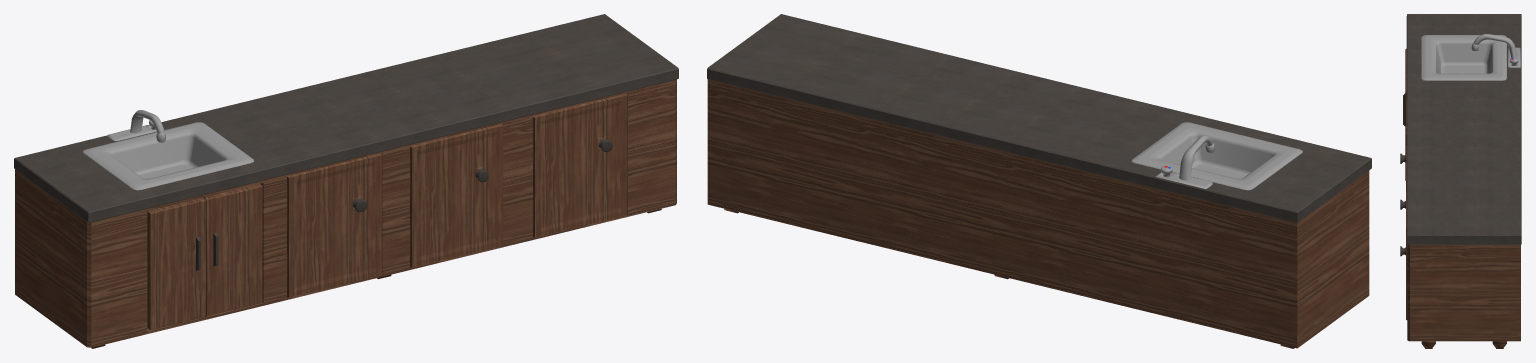
File: counter_top_sink.glb
3 renders of one model, left to right at view 1: azimuth 30°, elevation 25°; view 2: azimuth 150°, elevation 25°; view 3: azimuth 270°, elevation 25°, orthographic. The views are drawn at different scales.
Parts seen in each view (by area): view 1: CounterTopSink; view 2: CounterTopSink; view 3: CounterTopSink.
Boxes of the visible parts, x1,y1,x2,y2 form: CounterTopSink: (14,14,678,348); CounterTopSink: (707,14,1371,348); CounterTopSink: (1400,14,1521,348).
Size of the model in its own units: 3.7 by 1.07 by 0.8543.
7 materials, 3 textured.
